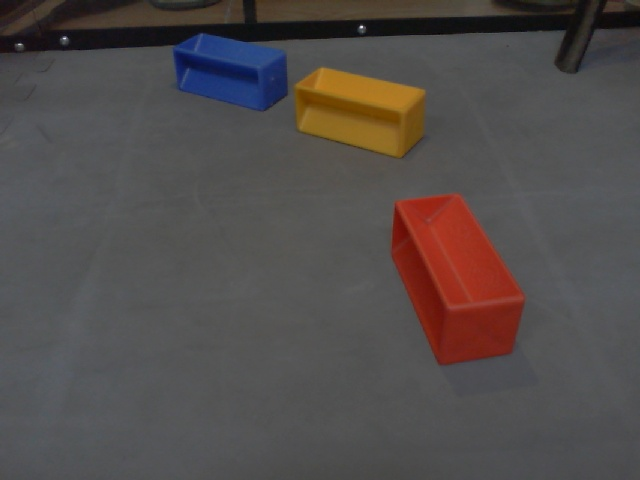BlueSample: (171, 33, 288, 112)
RedSample: (389, 191, 526, 365)
YellowSample: (292, 65, 429, 164)
